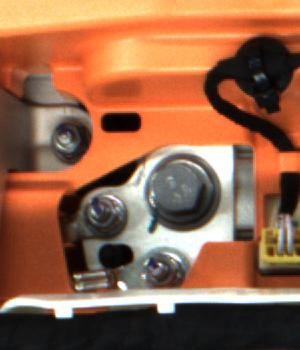nut_b: (141, 149, 228, 237)
screw_s: (84, 186, 120, 233), (142, 248, 182, 286), (46, 120, 81, 159)
